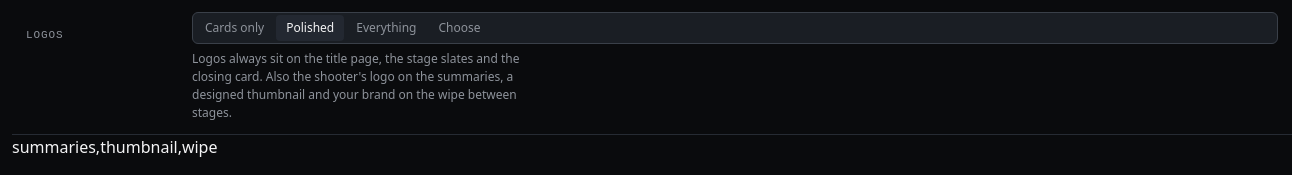
Test: LogoPlanField › Everything adds your brand over the footage
Click the button "Everything" at (386, 28), box x1=346 y1=15 x2=426 y2=41
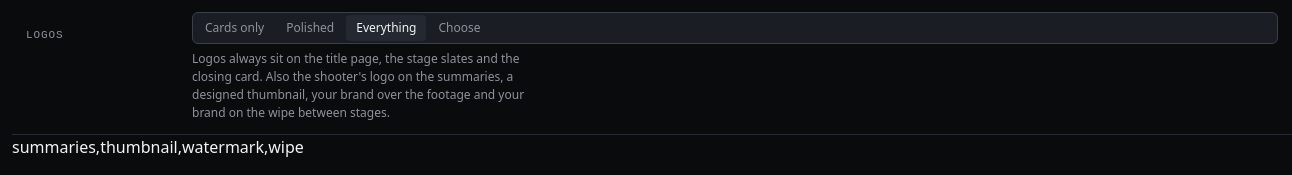
Expected: the text with test id "spots" reads "summaries,thumbnail,watermark,wipe", x1=12 y1=136 x2=304 y2=158
